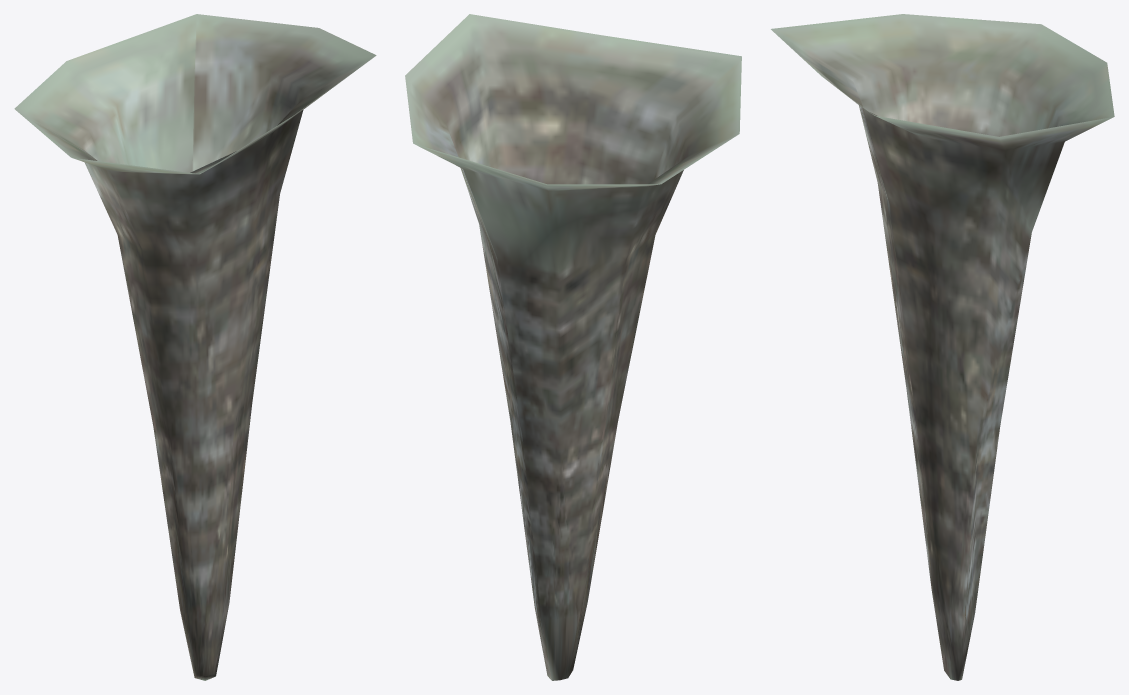
File: TROLLHOLE02_PS-UPPERSTALAG12.fbx
3 views of the same model, side by side, from view 1: azimuth 30°, elevation 25°; view 2: azimuth 150°, elevation 25°; view 3: azimuth 270°, elevation 25° (orthographic). The views are drawn at different scales.
Parts seen in each view (by area): view 1: TROLLHOLE02_PS-UPPERSTALAG12; view 2: TROLLHOLE02_PS-UPPERSTALAG12; view 3: TROLLHOLE02_PS-UPPERSTALAG12.
Boxes of the visible parts, <box> form: TROLLHOLE02_PS-UPPERSTALAG12: <box>14,14,376,680</box>; TROLLHOLE02_PS-UPPERSTALAG12: <box>405,14,741,680</box>; TROLLHOLE02_PS-UPPERSTALAG12: <box>771,14,1114,680</box>.
Bounding box in the file's own units: 13307 × 26729 × 13289.
1 material, 1 textured.
